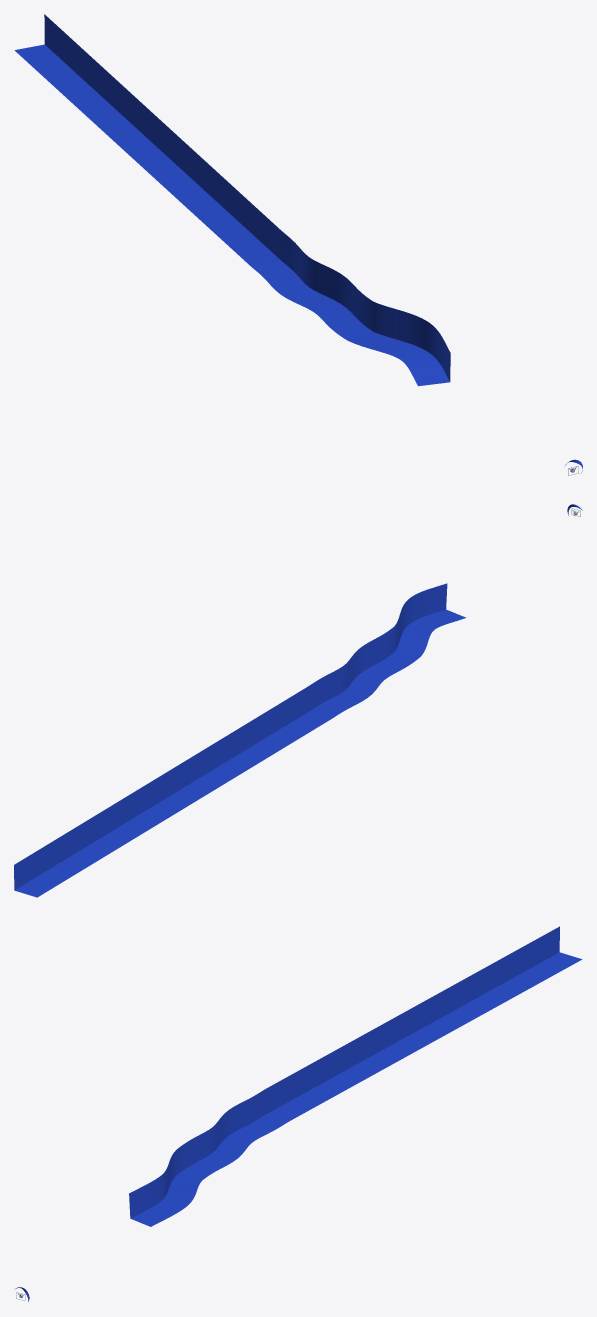
Rendered from falcon-wing-mobile.glb.
3 renders of one model, top to bottom at view 1: azimuth 30°, elevation 25°; view 2: azimuth 150°, elevation 25°; view 3: azimuth 330°, elevation 25°, orthographic. The views are drawn at different scales.
Visible parts, largest first — view 1: BrandTunnel; view 2: BrandTunnel; view 3: BrandTunnel.
Part boxes in pixels (x1,y1,x2,y2): BrandTunnel: [14, 14, 450, 386]; BrandTunnel: [14, 583, 466, 897]; BrandTunnel: [129, 926, 581, 1226].
Size of the model in its own units: 85.37 by 38.25 by 987.
Materials: 7 (3 with a texture image).
